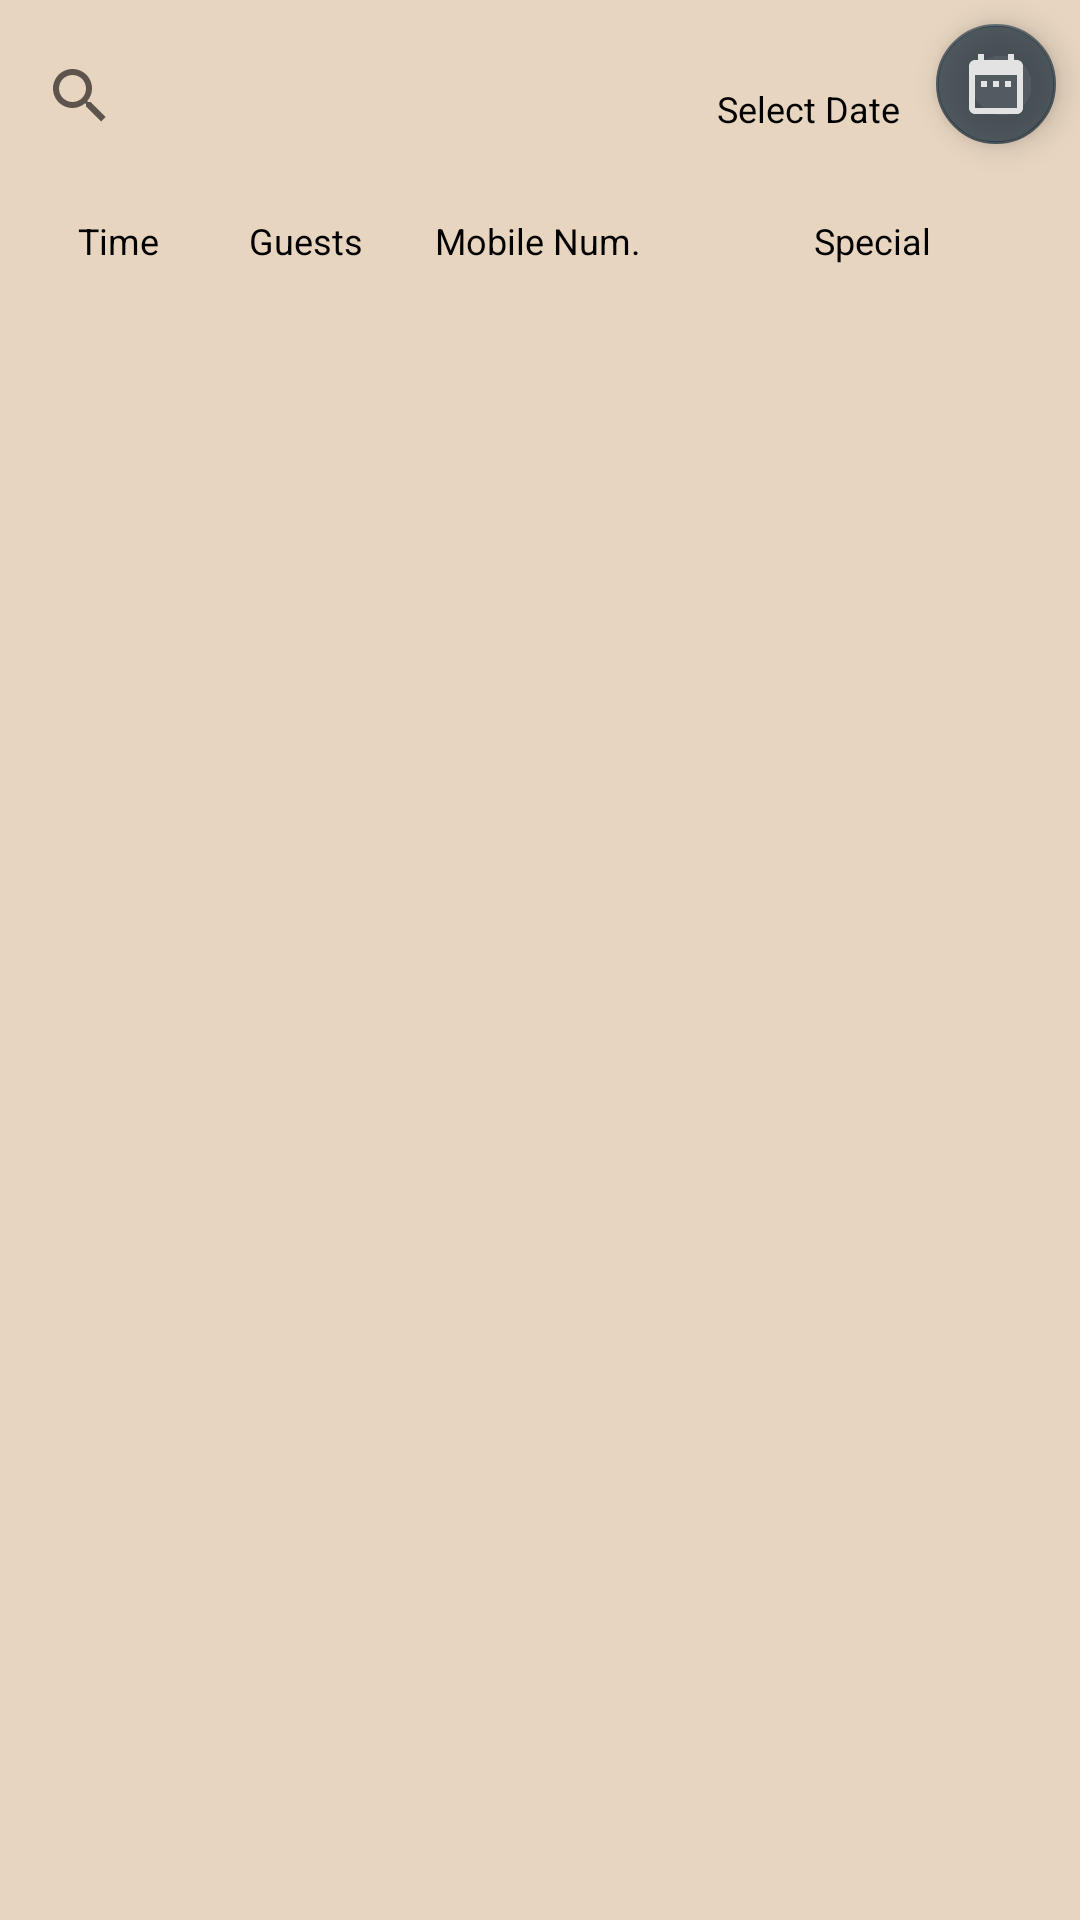

Where icons sit on this 1080x1920 app screen, as (x1, y1, x2, y2):
date range: (936, 24, 1056, 144)
